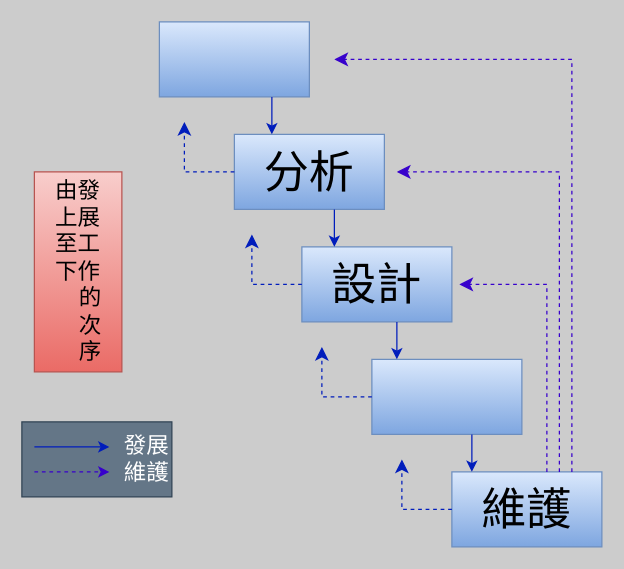
The diagram is 624 pixels wide and 569 high, and some of its shapes have lost their labels. Each missing label, with the box of its shape:
製作: (371, 358, 522, 434)
需求: (158, 21, 309, 97)
